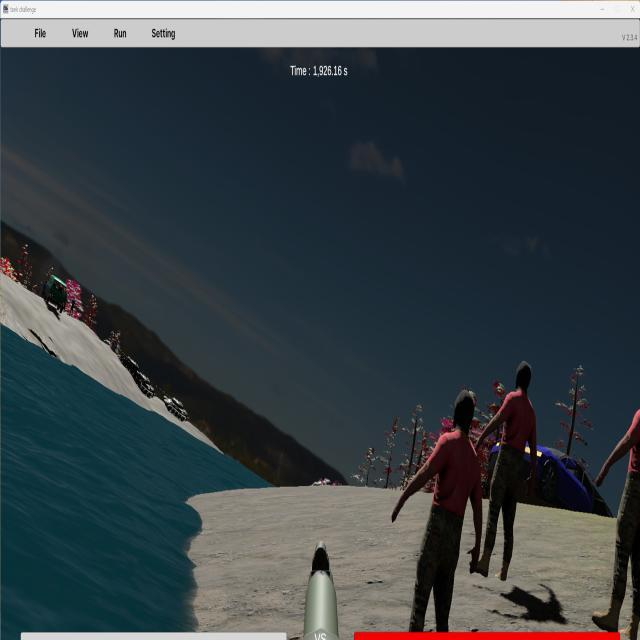Human: (391, 386, 485, 639), (475, 360, 541, 584), (595, 358, 640, 640)
car: (44, 274, 67, 314)
